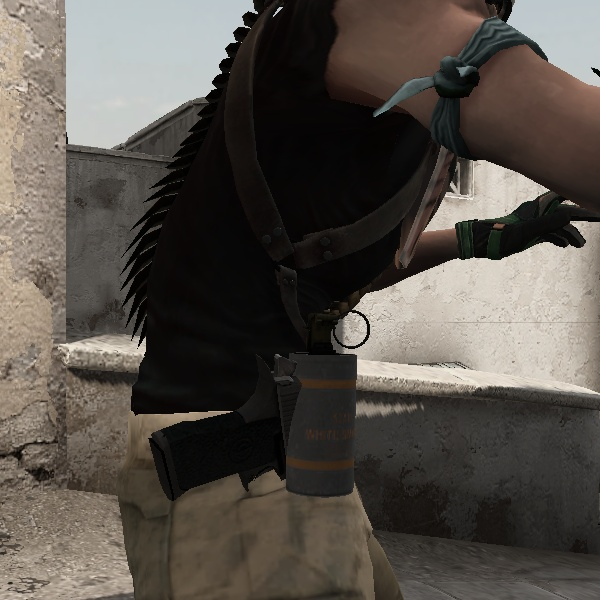t_body: (68, 3, 600, 577)
